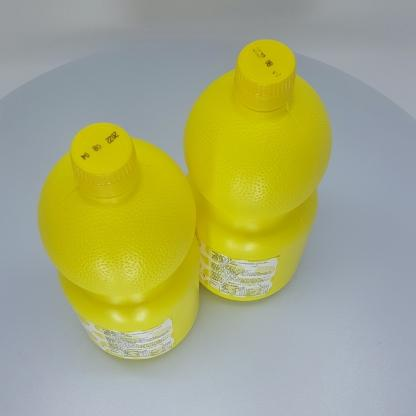-------: (183, 39, 332, 301), (38, 123, 200, 359)
